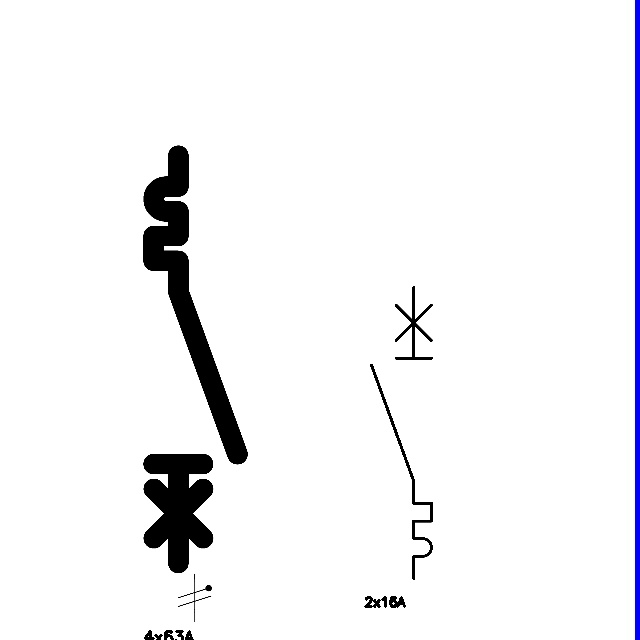interruptor_termomagnetico: (143, 145, 248, 573), (364, 280, 439, 586)
